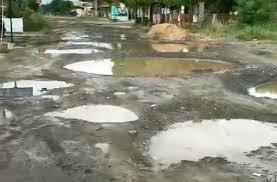Pothole: (145, 120, 277, 166), (64, 55, 244, 76), (36, 102, 151, 133), (0, 71, 67, 109), (35, 37, 130, 59), (248, 65, 277, 105), (244, 36, 277, 69), (0, 98, 21, 139), (51, 22, 88, 43)
